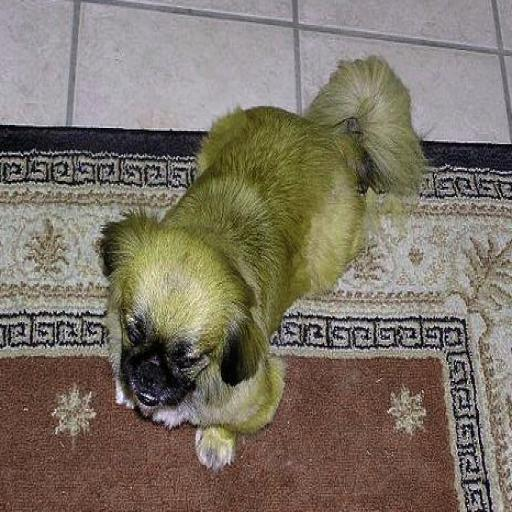dog_face: (100, 229, 242, 408)
